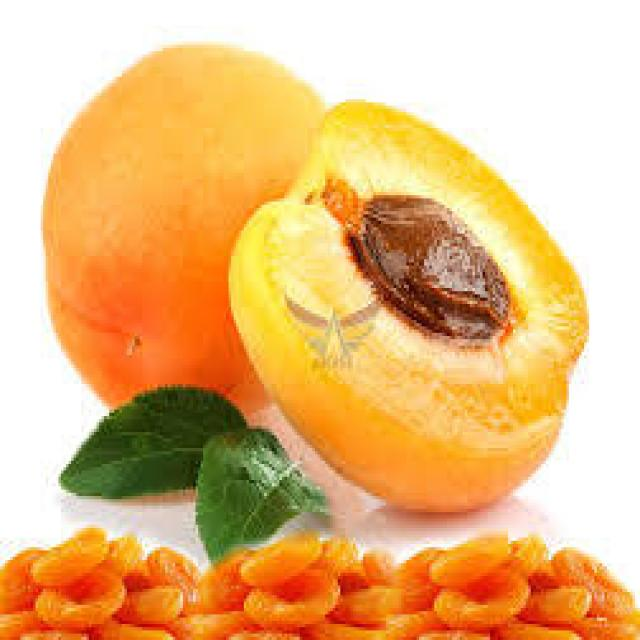cekirdek: (309, 169, 519, 353)
kayisi: (220, 88, 599, 516), (35, 29, 340, 426)
yaprak: (50, 374, 253, 502), (181, 413, 342, 570)
